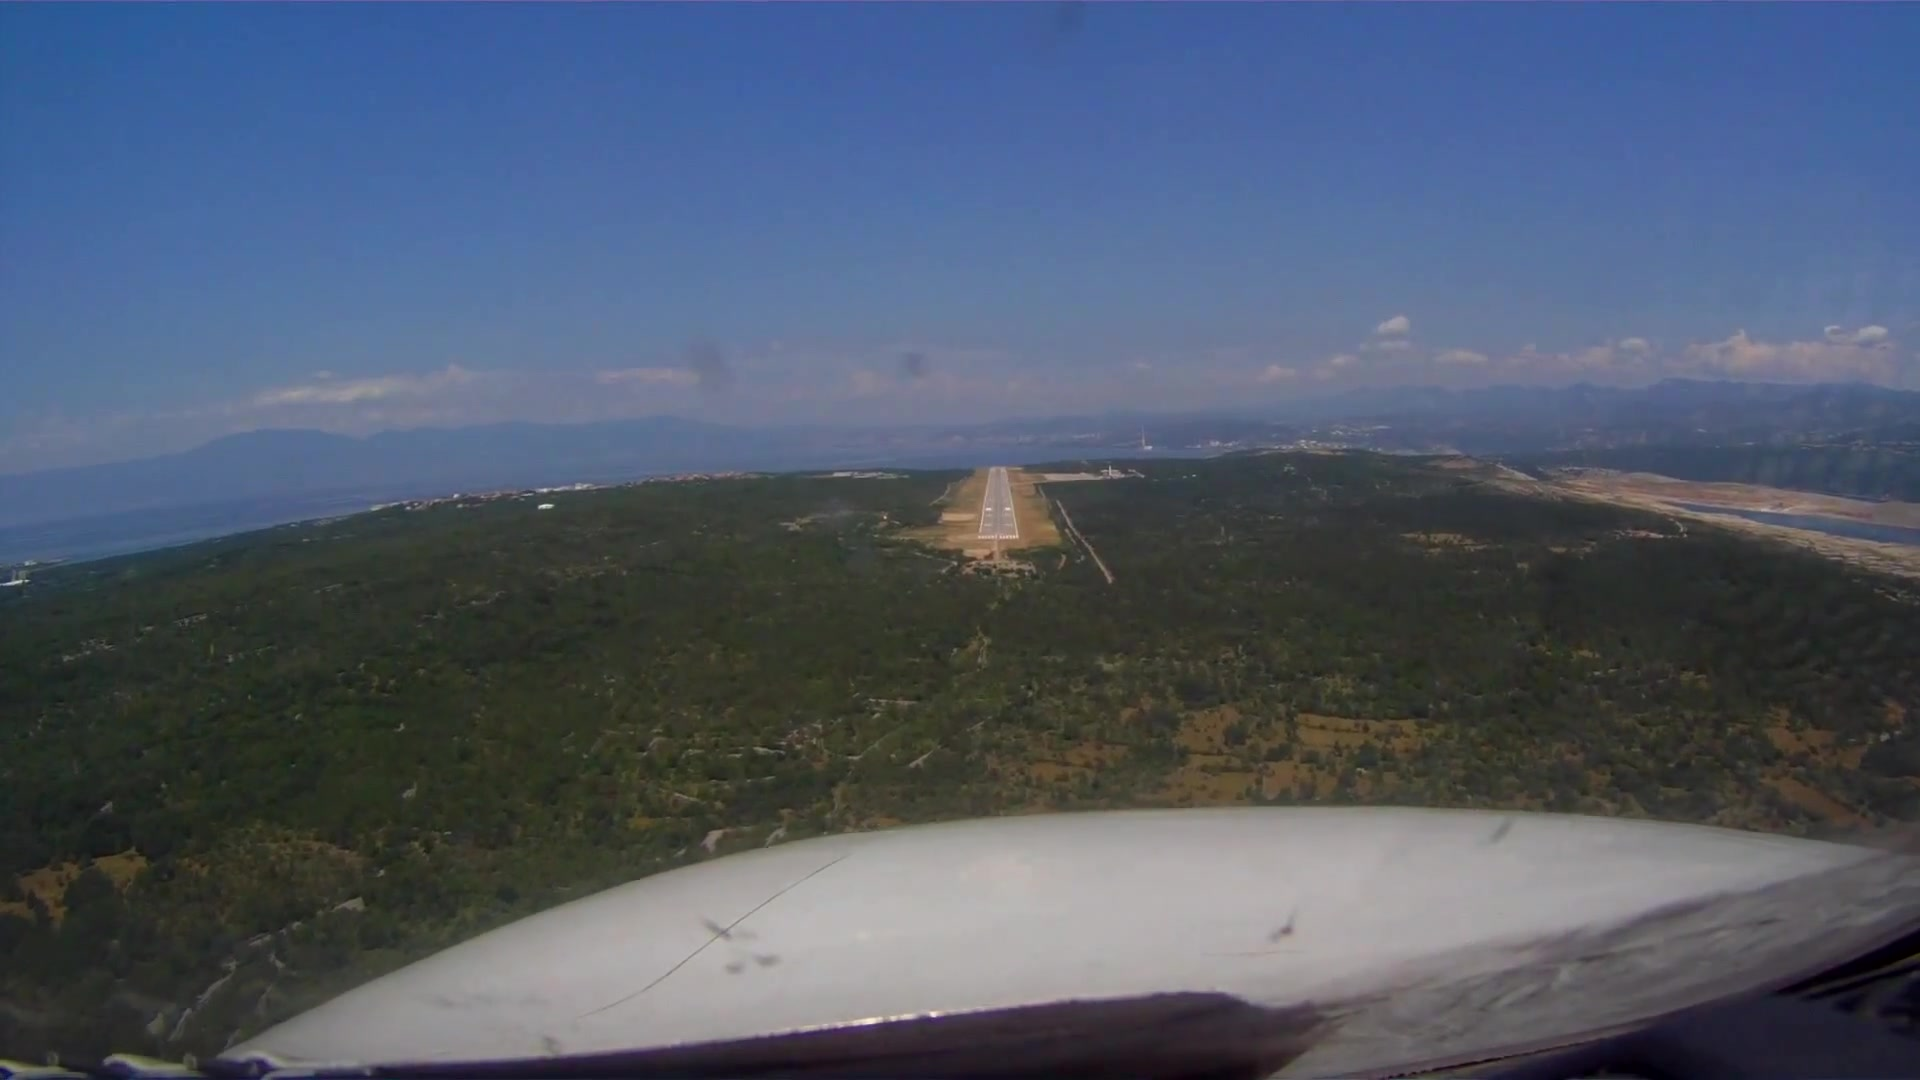entrance: (978, 531, 1015, 541)
runway: (975, 464, 1021, 542)
